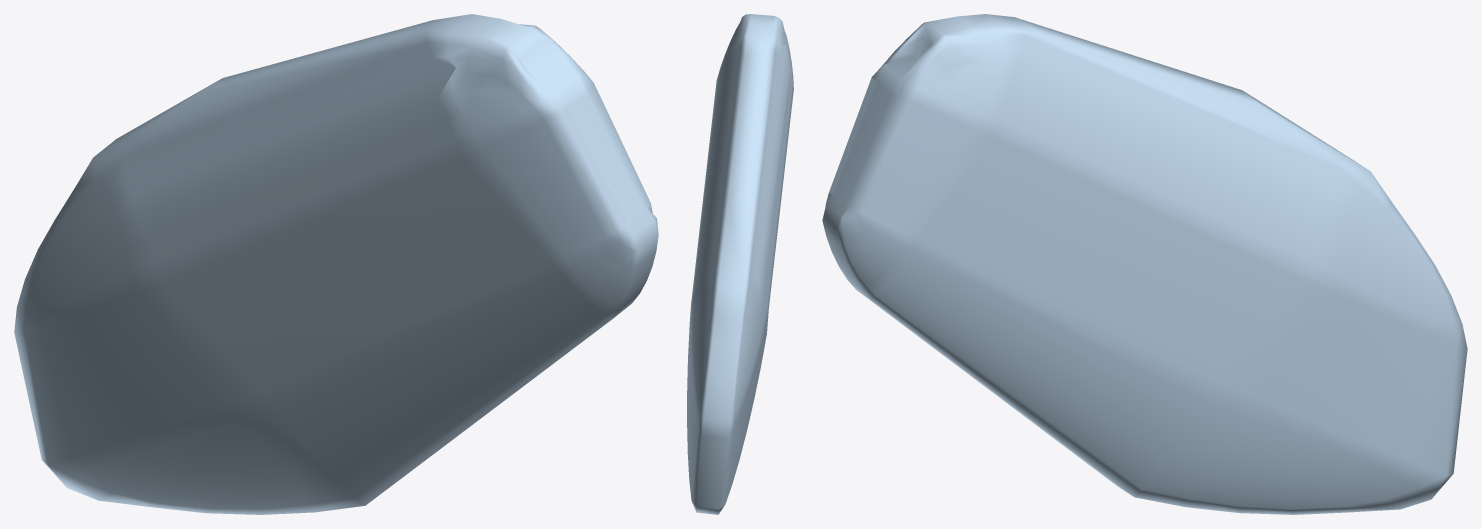
The model's file is ala4.obj.
3 views of the same model, side by side, from view 1: azimuth 30°, elevation 25°; view 2: azimuth 150°, elevation 25°; view 3: azimuth 270°, elevation 25° (orthographic). The views are drawn at different scales.
Visible parts, largest first — view 1: navyala2:pasted__pasted__pasted__pCube1pasted__pasted__group1pas; view 2: navyala2:pasted__pasted__pasted__pCube1pasted__pasted__group1pas; view 3: navyala2:pasted__pasted__pasted__pCube1pasted__pasted__group1pas.
Part boxes in pixels (bbox=[...]): navyala2:pasted__pasted__pasted__pCube1pasted__pasted__group1pas: bbox=[14, 14, 658, 514]; navyala2:pasted__pasted__pasted__pCube1pasted__pasted__group1pas: bbox=[687, 14, 793, 514]; navyala2:pasted__pasted__pasted__pCube1pasted__pasted__group1pas: bbox=[822, 14, 1467, 514].
Size of the model in its own units: 0.5429 by 1 by 1.07.
Materials: 1 (1 with a texture image).
